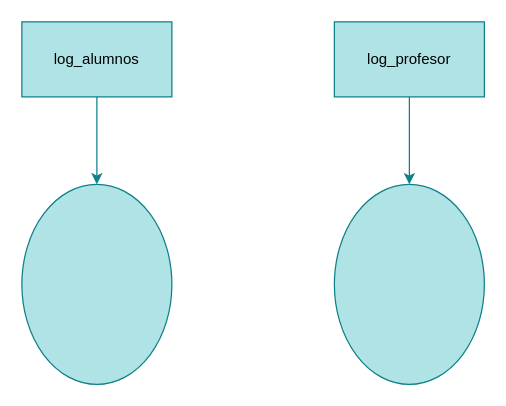
Image size: 506x406. Some labels were removed from this diagram. The shapes that lost their labels are listed below. From the top down, each one's box as (x1, y1, x2, y2) in pixels, then its label:
(21, 183, 172, 384): log_id (PK) legajo_alumno nombre apellido fecha_nac fecha accion
(333, 183, 484, 384): log_id (PK) legajo_profesor nombre apellido fecha_nac fecha accion
